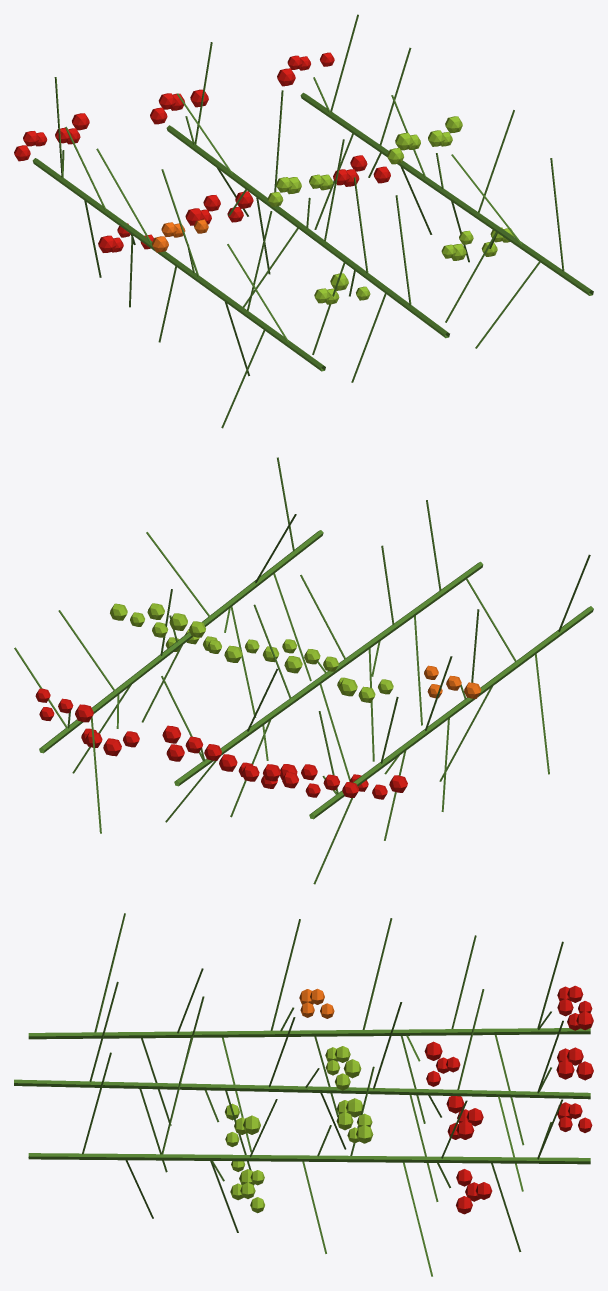
File: r18c0_stems.obj
3 views of the same model, one above another, from view 1: azimuth 30°, elevation 25°; view 2: azimuth 150°, elevation 25°; view 3: azimuth 270°, elevation 25° (orthographic).
Parts seen in each view (by area): view 1: r18c0_stems; view 2: r18c0_stems; view 3: r18c0_stems.
Boxes of the visible parts, bbox=[...] form: r18c0_stems: bbox=[14, 14, 593, 428]; r18c0_stems: bbox=[14, 457, 593, 884]; r18c0_stems: bbox=[14, 913, 593, 1276].
Bounding box in the file's own units: 1.5 × 0.8608 × 2.07.
